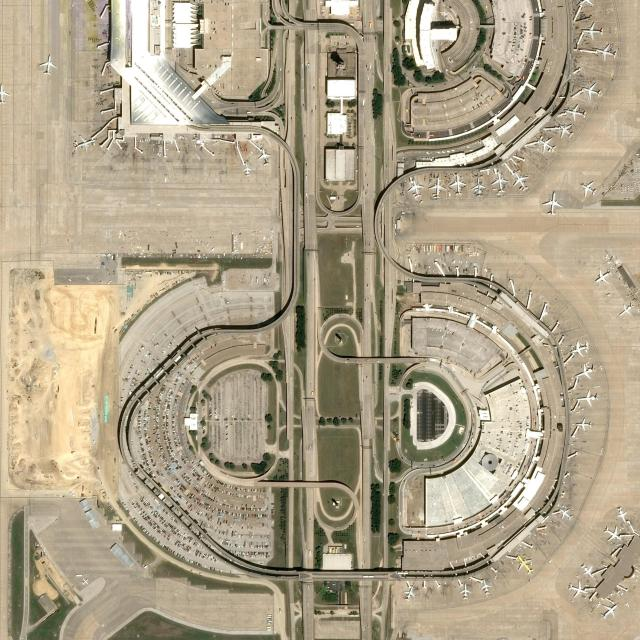1: (0, 81, 10, 105)
aircraft: (542, 190, 562, 215), (582, 21, 604, 41), (566, 581, 589, 599), (448, 173, 466, 195), (576, 388, 598, 406), (72, 135, 95, 152), (516, 554, 533, 576), (40, 54, 56, 76), (595, 44, 617, 60), (490, 171, 506, 193), (602, 525, 621, 543), (428, 177, 444, 198), (565, 103, 586, 119), (600, 601, 618, 619), (574, 364, 594, 380), (538, 135, 555, 153), (581, 82, 601, 97), (513, 170, 528, 190), (580, 180, 596, 198), (570, 340, 588, 356), (594, 268, 611, 284), (557, 123, 573, 139), (472, 178, 486, 196), (579, 563, 595, 578), (557, 506, 572, 521), (618, 302, 632, 318), (575, 417, 591, 431), (258, 148, 270, 166), (410, 181, 422, 199), (616, 506, 628, 523), (402, 586, 414, 602), (481, 579, 491, 596), (460, 584, 470, 600), (241, 160, 251, 174)
